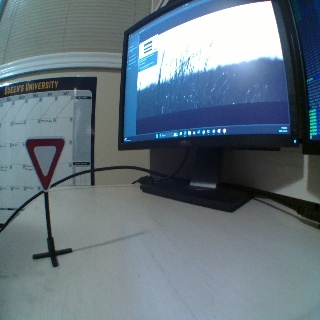sign_yield: (24, 136, 67, 190)
